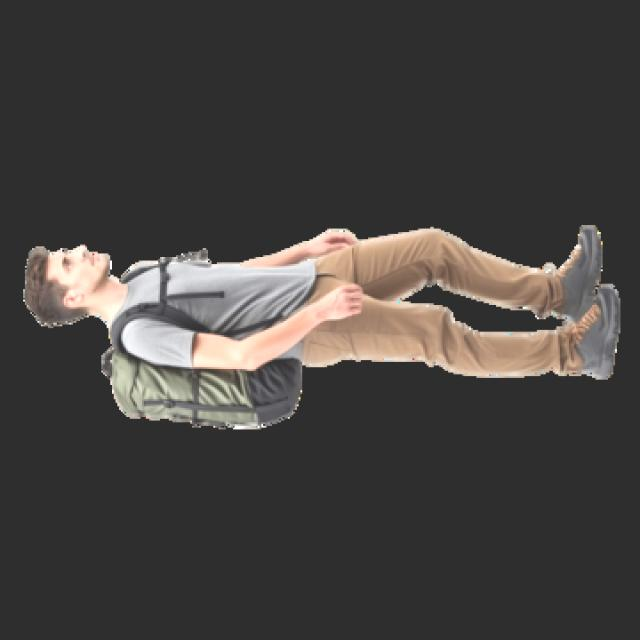backpack: (101, 255, 305, 431)
